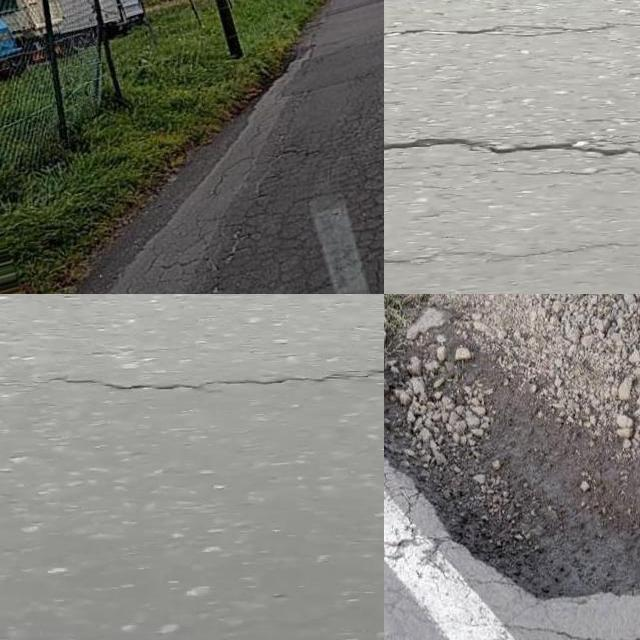Melintang: (33, 354, 384, 401), (384, 119, 640, 174)
Pinggir: (384, 294, 640, 610)
Retak Buaya: (209, 129, 384, 294)
